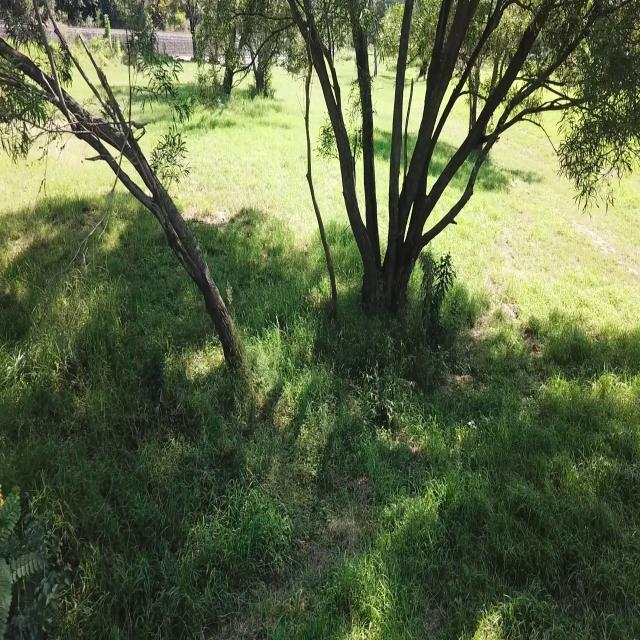Mysore-Thorn-Weed: (0, 472, 48, 639)
